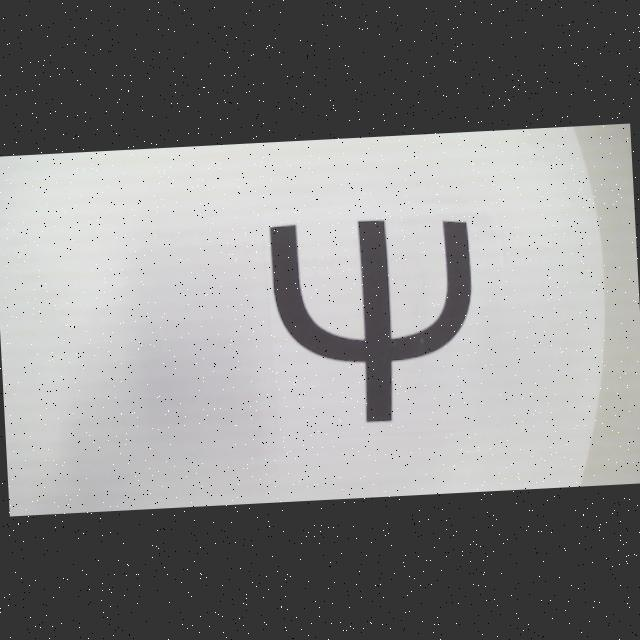PSI: (268, 216, 480, 427)
